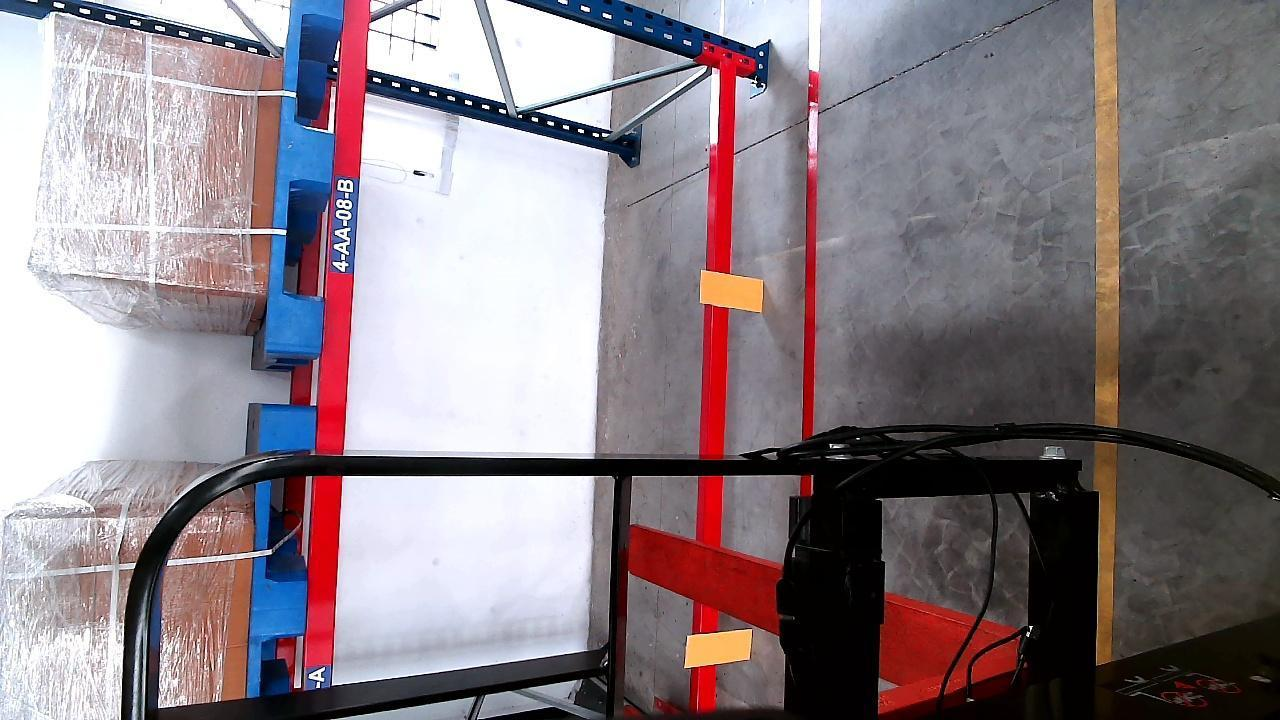h_rack: (301, 0, 368, 688), (694, 67, 743, 719)
orange_strip: (686, 626, 755, 666), (703, 271, 766, 310)
red_line: (799, 4, 825, 445)
small_pallet: (269, 0, 346, 360), (245, 408, 313, 692)
yellow_line: (1094, 0, 1122, 665)
